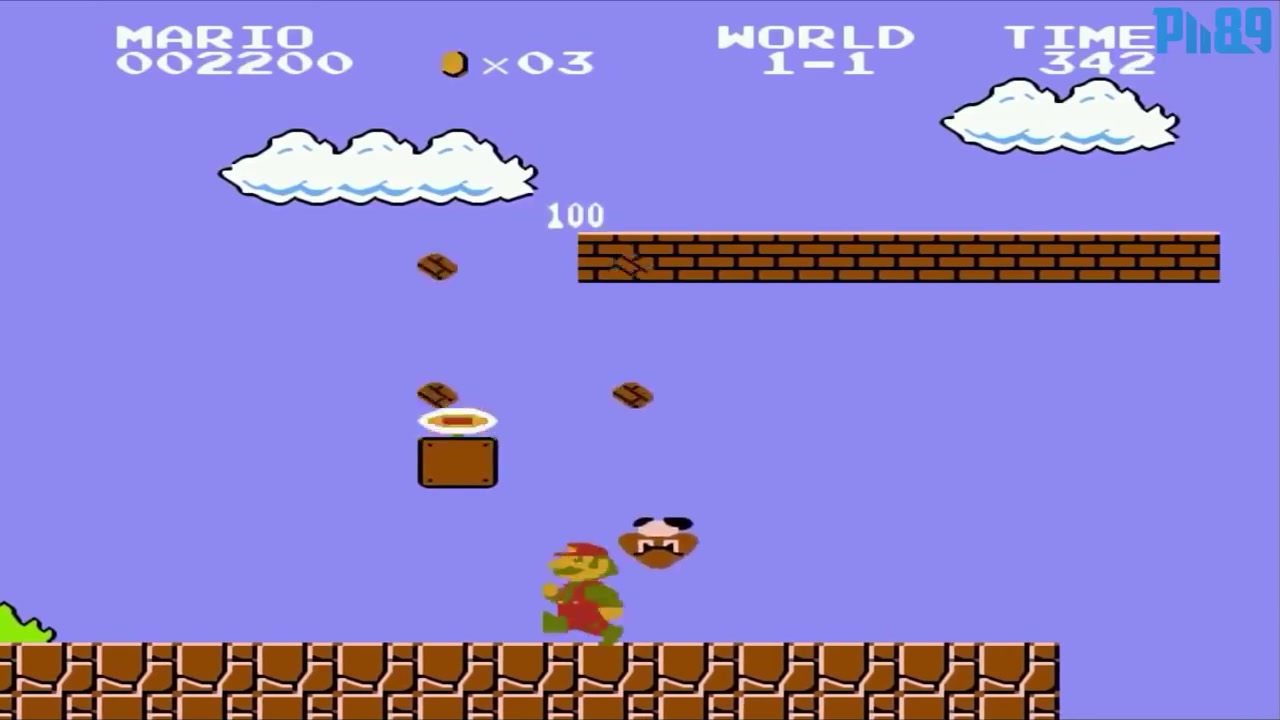mario: (533, 539, 635, 649)
